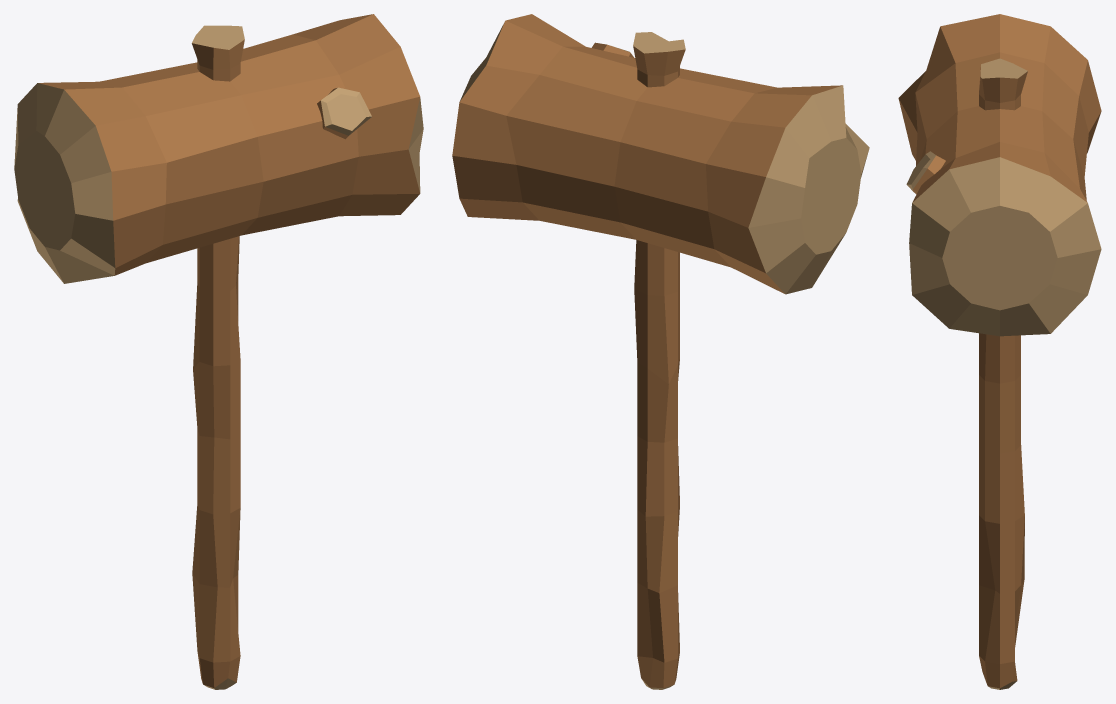
File: Woodenhammer.fbx
3 renders of one model, left to right at view 1: azimuth 30°, elevation 25°; view 2: azimuth 150°, elevation 25°; view 3: azimuth 270°, elevation 25°, orthographic. The views are drawn at different scales.
Visible parts, largest first — view 1: Cilindro.019, Cilindro.020, Cilindro.012; view 2: Cilindro.019, Cilindro.020; view 3: Cilindro.019, Cilindro.020, Cilindro.012.
Boxes of the visible parts, <box> form: Cilindro.019: <box>14,14,423,283</box>; Cilindro.020: <box>191,25,244,689</box>; Cilindro.012: <box>317,87,371,139</box>; Cilindro.019: <box>452,14,869,294</box>; Cilindro.020: <box>633,32,685,689</box>; Cilindro.019: <box>898,14,1101,336</box>; Cilindro.020: <box>979,58,1027,689</box>; Cilindro.012: <box>906,151,945,194</box>.
Bounding box in the file's own units: 450 × 806 × 240.
